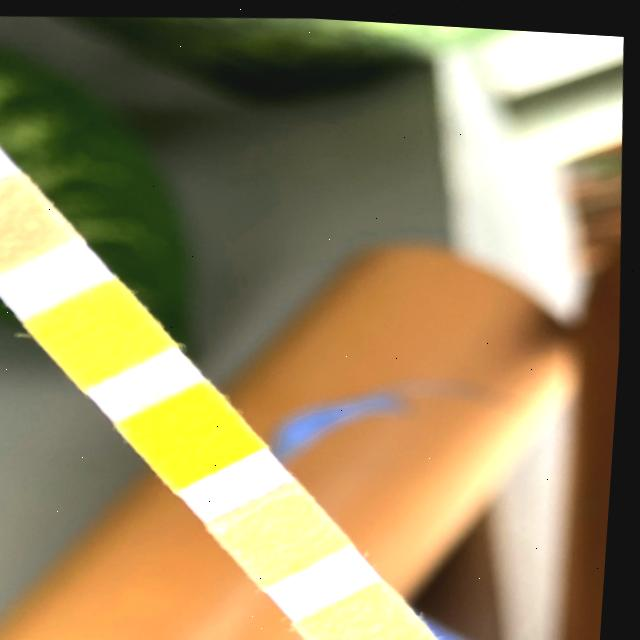Blood: (149, 401, 243, 464)
Ketone: (0, 202, 59, 258)
Protein: (332, 607, 422, 640)
SpGravity: (55, 302, 151, 364)
pH: (242, 506, 330, 562)
